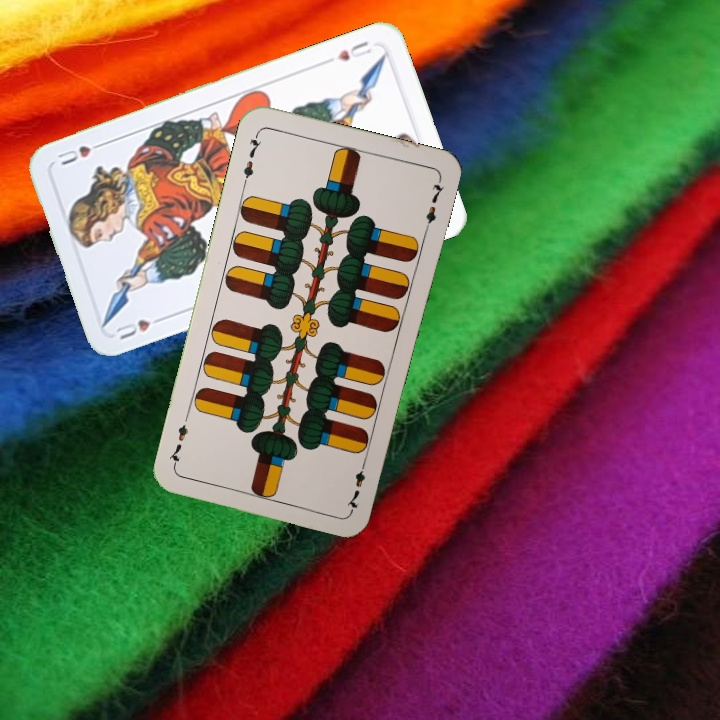E7: (342, 454, 369, 513), (239, 129, 265, 187)
HU: (112, 312, 168, 342), (322, 37, 374, 66)
